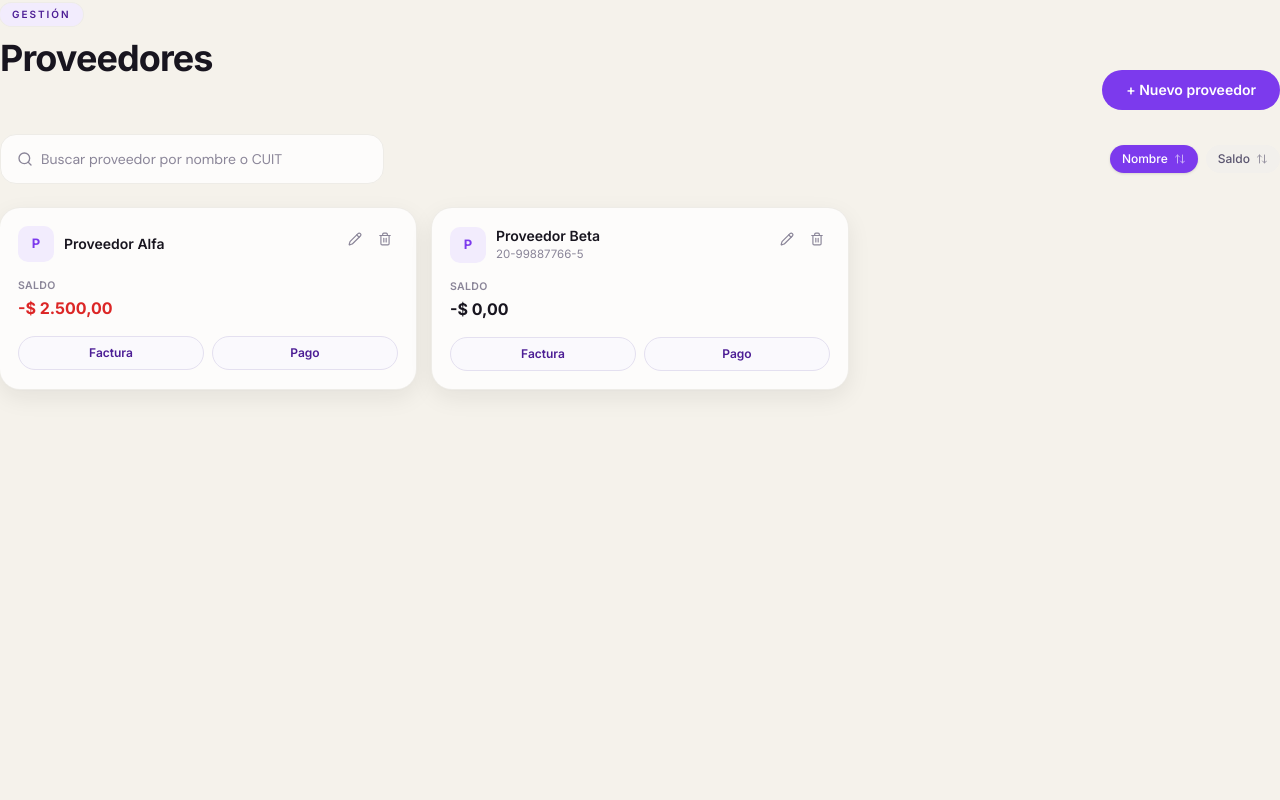
Scenario: ProveedoresList › clicking Eliminar on supplier with dependencies opens the confirmation dialog (c-18 FE-008)
The image size is (1280, 800).
Expected: the text "Proveedor Alfa" is shown, x1=64 y1=234 x2=164 y2=254
Click the 2nd button named "eliminar". click: {"x": 385, "y": 239}
box: x1=372 y1=226 x2=398 y2=252
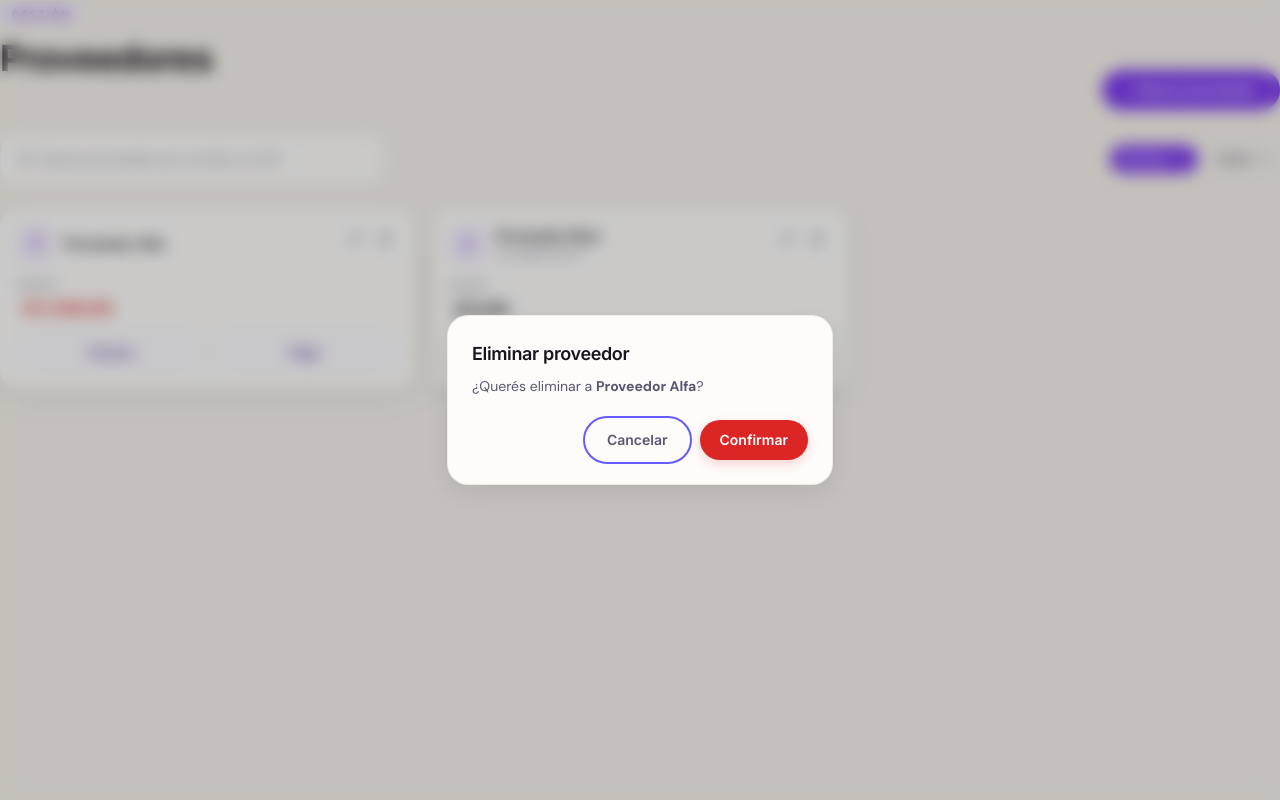
Expected: the dialog is shown, x1=448 y1=316 x2=832 y2=484
